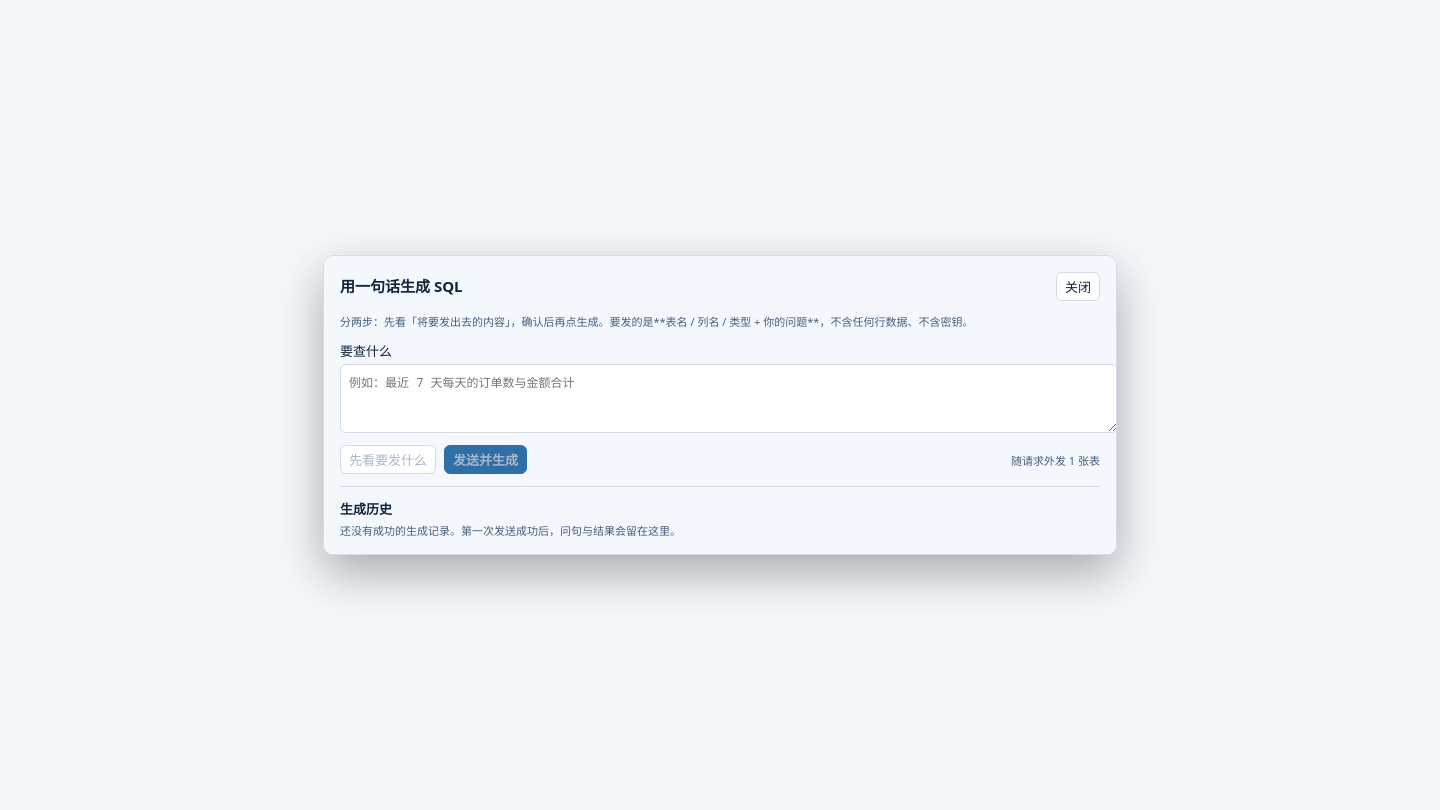
AgentGenerateDialog（FR-AI-02） › 总开关关着时不能发送，并逐条点名缺什么
In the text box with test id "generate-question": (729, 398) [340, 364, 1118, 433], type "最近 7 天的订单数"
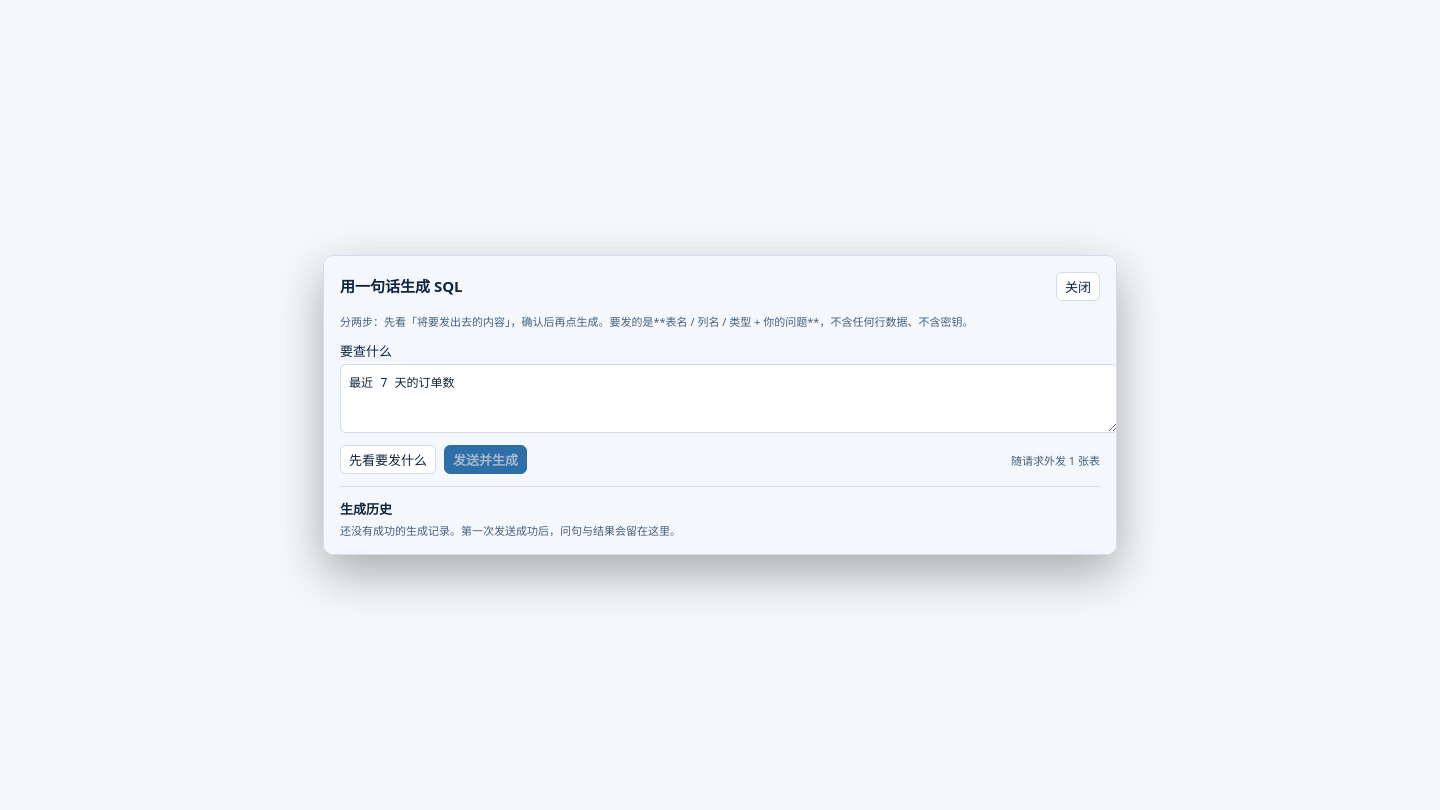
Click the button with test id "generate-preview": (388, 460) [340, 445, 436, 474]
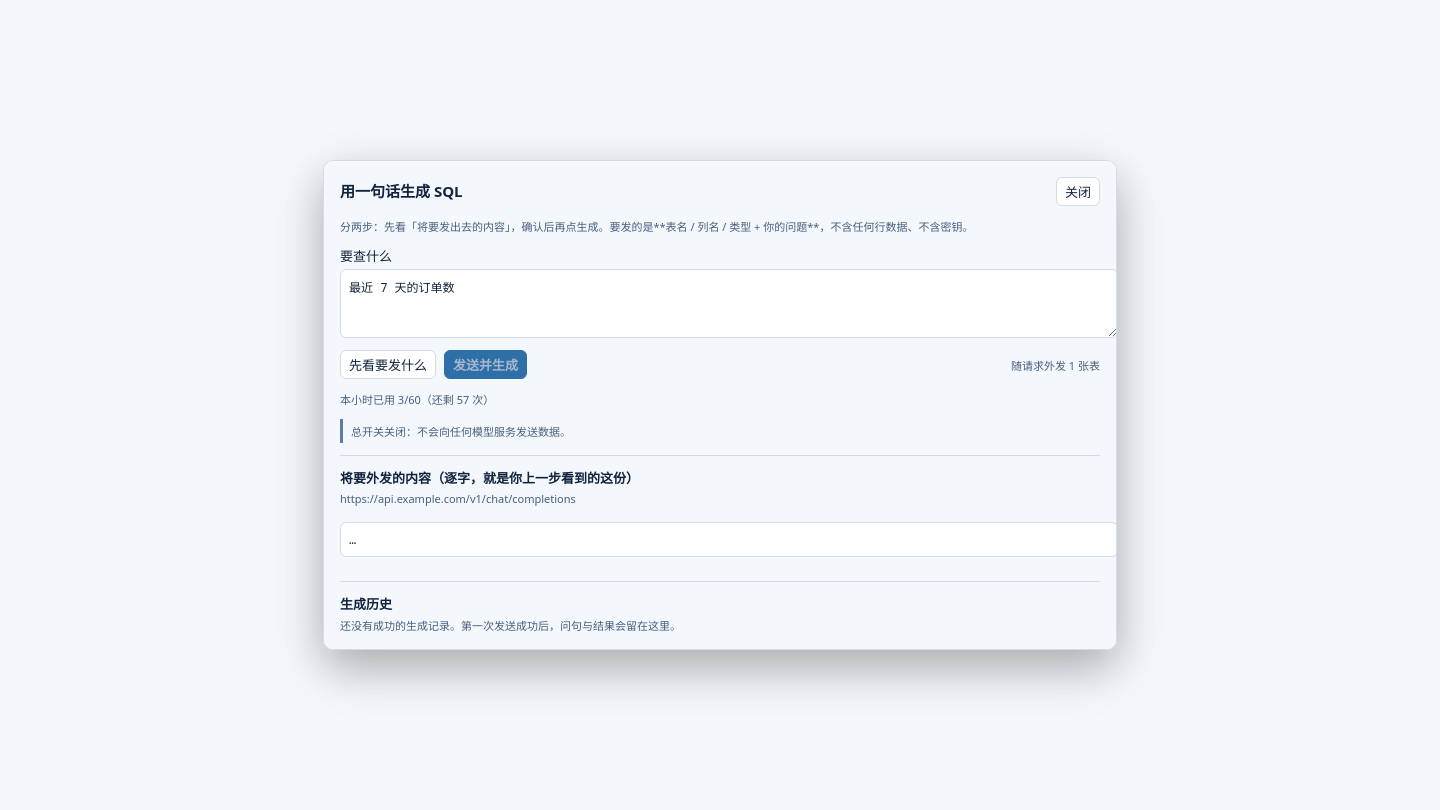
Expected: the button with test id "generate-send" is disabled, [444, 350, 527, 379]
Expected: the text with test id "generate-gate" shows "不会向任何模型服务发送数据", [351, 424, 571, 439]
